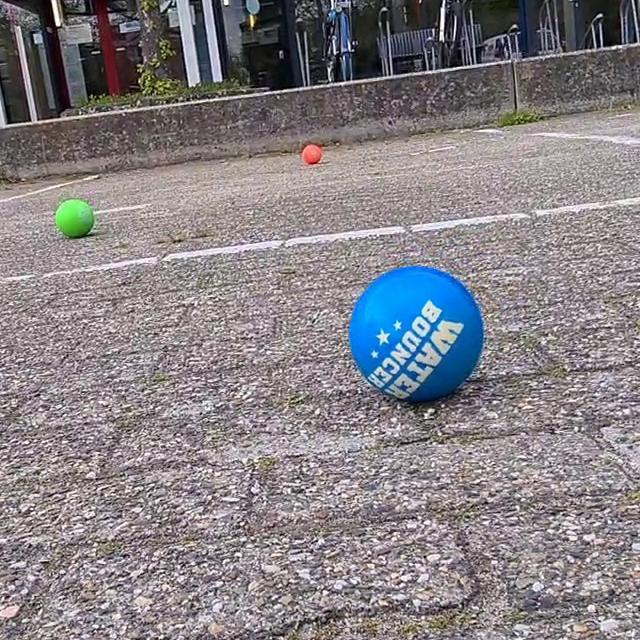ball: (55, 197, 95, 240), (300, 142, 325, 168)
